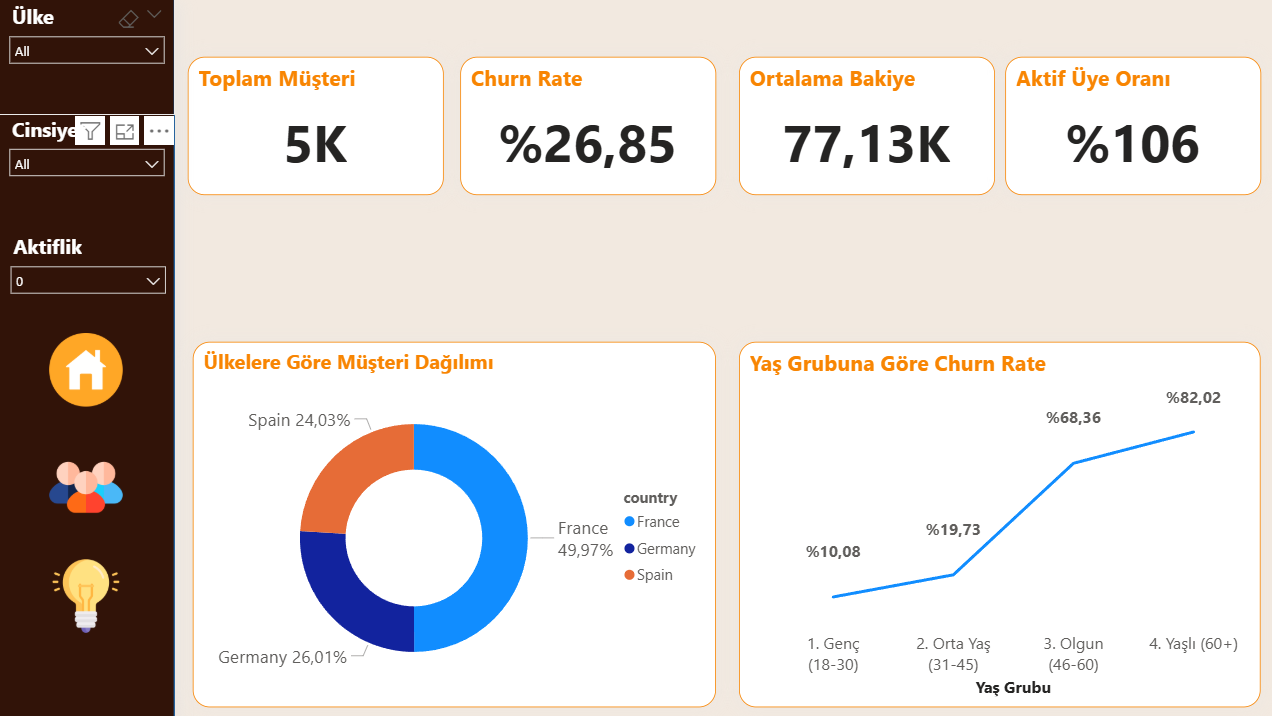

Layout of this report page (visuals, bound fields, positions):
{"tool":"powerbi","page":{"name":"Executive Summary","canvas":[1280,720],"ordinal":0},"visuals":[{"type":"cardVisual","title":"Toplam Müşteri","fields":{"Data":["Customers.Toplam_Müşteri"]},"box":[188.6,58.6,255.7,138.6],"z":0},{"type":"shape","box":[0,0,175.7,720],"z":1000},{"type":"cardVisual","title":"Churn Rate","fields":{"Data":["Customers.Churn Oranı"]},"box":[461.4,58.6,255.7,138.6],"z":2000},{"type":"cardVisual","title":"Ortalama Bakiye","fields":{"Data":["Customers.Ortalama_Bakiye"]},"box":[740,58.6,255.7,138.6],"z":3000},{"type":"cardVisual","title":"Aktif Üye Oranı","fields":{"Data":["Customers.Aktif_Üye_Oranı"]},"box":[1005.7,58.6,255.7,138.6],"z":4000},{"type":"lineChart","title":"Yaş Grubuna Göre Churn Rate","fields":{"Category":["Customers.Yas_Grubu"],"Y":["Customers.Churn Oranı"]},"box":[740,343.7,521.4,365.7],"z":5000},{"type":"donutChart","title":"Ülkelere Göre Müşteri Dağılımı","fields":{"Category":["Customers.country"],"Y":["Customers.Toplam_Müşteri"]},"box":[194.3,343.7,522.9,365.7],"z":6000},{"type":"slicer","fields":{"Values":["Customers.country"]},"box":[0,0,175.7,117.1],"z":7000},{"type":"slicer","fields":{"Values":["Customers.gender"]},"box":[0,112.9,175.7,117.1],"z":8000},{"type":"slicer","fields":{"Values":["Customers.active_member"]},"box":[1.4,230,175.7,117.1],"z":9000},{"type":"image","box":[24.1,561,126.7,73.6],"z":9001},{"type":"image","box":[24.1,335.4,126.7,73.6],"z":9002},{"type":"image","box":[24.1,452.4,126.7,73.6],"z":9003}]}

Visuals, with their boxes on the page's 1280x720 design canvas (x1, y1, x2, y2). These are canvas units, not pixel positions in the 1272x716 screenshot, which may show the page scaled, cropped or inside an application window:
"Toplam Müşteri" cardVisual: crop(189, 59, 444, 197)
shape: crop(0, 0, 176, 720)
"Churn Rate" cardVisual: crop(461, 59, 717, 197)
"Ortalama Bakiye" cardVisual: crop(740, 59, 996, 197)
"Aktif Üye Oranı" cardVisual: crop(1006, 59, 1261, 197)
"Yaş Grubuna Göre Churn Rate" lineChart: crop(740, 344, 1261, 709)
"Ülkelere Göre Müşteri Dağılımı" donutChart: crop(194, 344, 717, 709)
slicer - Customers.country: crop(0, 0, 176, 117)
slicer - Customers.gender: crop(0, 113, 176, 230)
slicer - Customers.active_member: crop(1, 230, 177, 347)
image: crop(24, 561, 151, 635)
image: crop(24, 335, 151, 409)
image: crop(24, 452, 151, 526)
